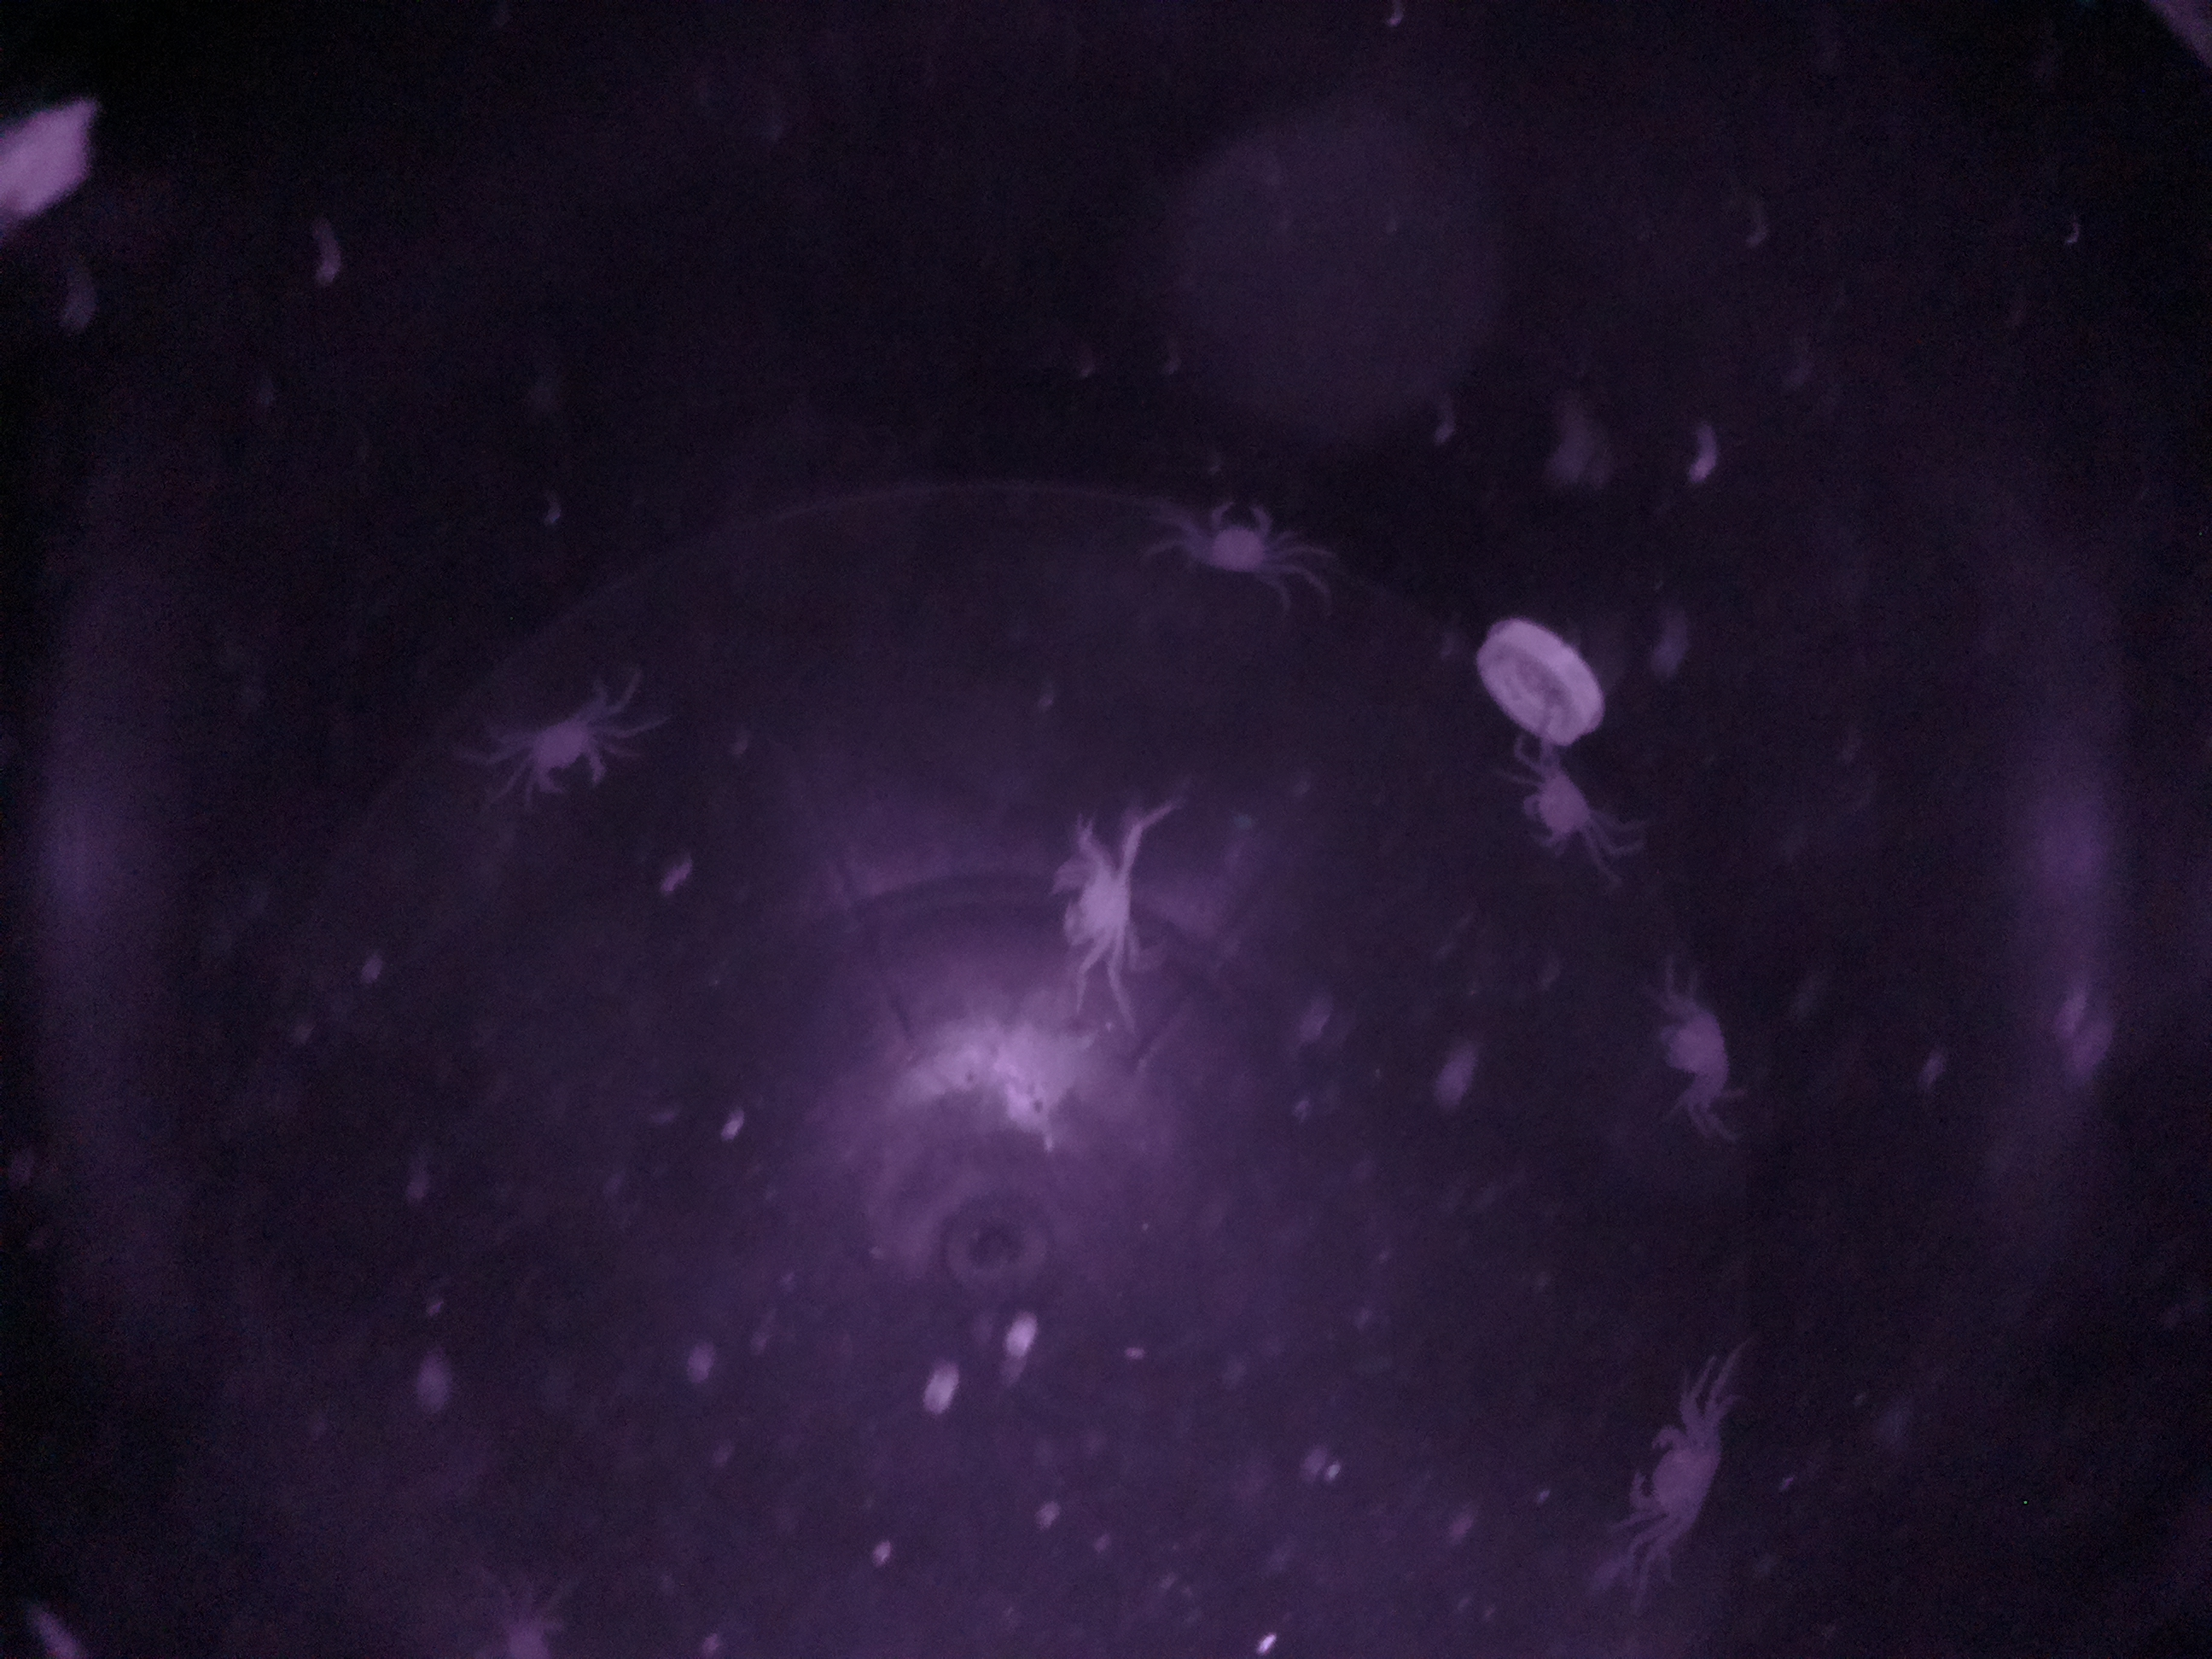Crab: (1038, 838, 1181, 974), (1611, 1405, 1731, 1563), (503, 683, 625, 826), (1172, 486, 1298, 598), (1498, 751, 1601, 870)
